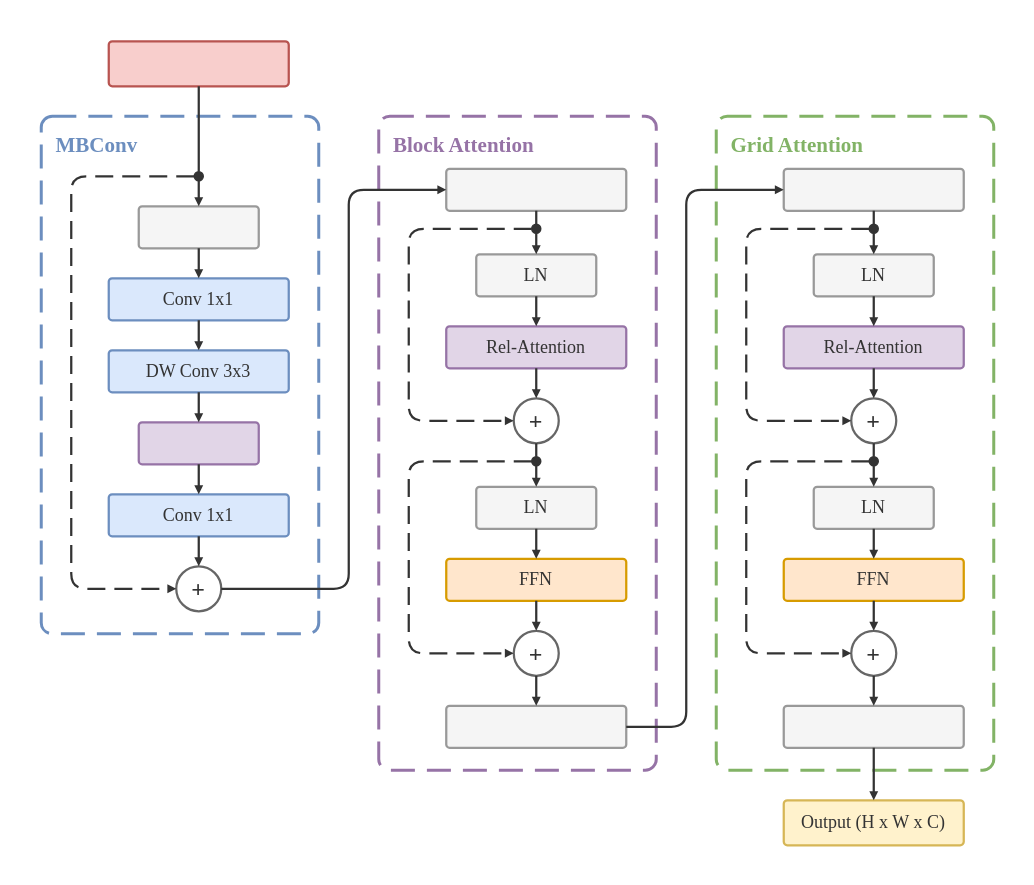
This 1034x885 diagram has some shape labels left out. The centre of each missing label's shape, as x and y in pixels:
Block Partition: point 535,189
Block Reverse: point 535,726
BN: point 198,226
Grid Partition: point 873,189
Grid Reverse: point 873,726
Input (H x W x C): point 198,63
SE: point 198,442
